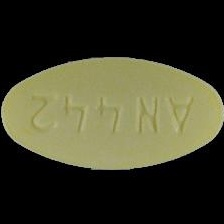0904-6517: (0, 0, 224, 224)
